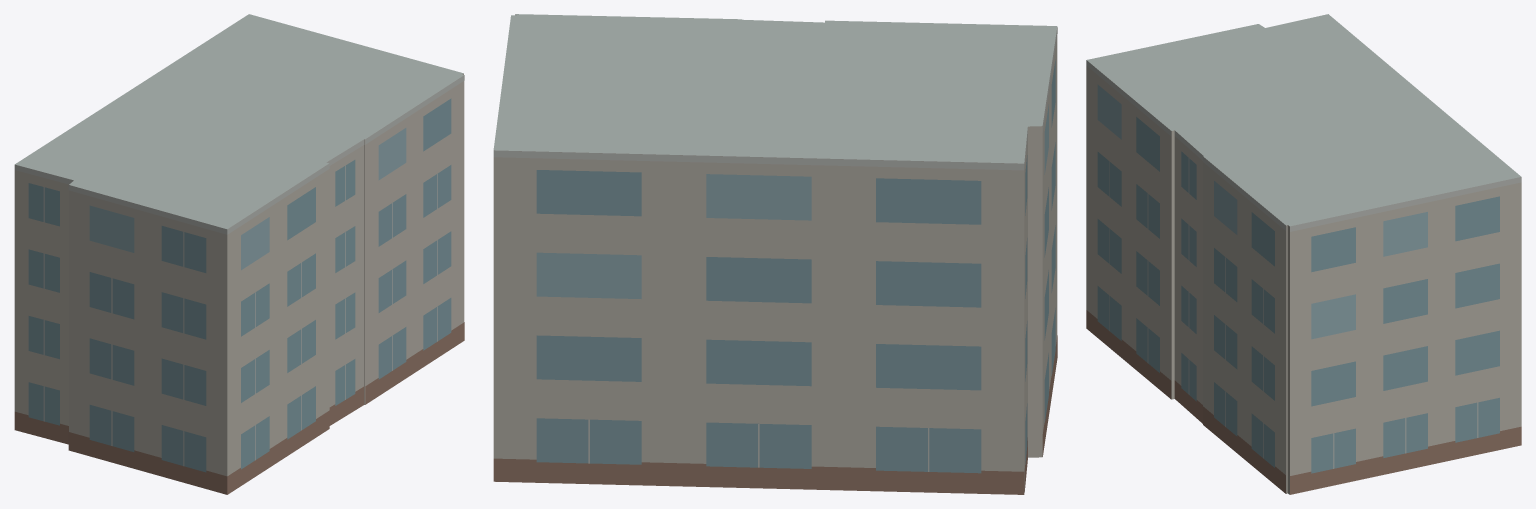
File: survey-upis-32834808.glb
The picture shows the model from 3 angles, left to right: view 1: azimuth 30°, elevation 25°; view 2: azimuth 150°, elevation 25°; view 3: azimuth 270°, elevation 25°; orthographic projection. The views are drawn at different scales.
Parts seen in each view (by area): view 1: survey-upis-32834808.tmp; view 2: survey-upis-32834808.tmp; view 3: survey-upis-32834808.tmp.
Boxes of the visible parts, x1=… form: survey-upis-32834808.tmp: x1=14, y1=14, x2=464, y2=494; survey-upis-32834808.tmp: x1=493, y1=14, x2=1057, y2=494; survey-upis-32834808.tmp: x1=1086, y1=14, x2=1521, y2=494.
Size of the model in its own units: 20.03 by 11.8 by 17.34.
